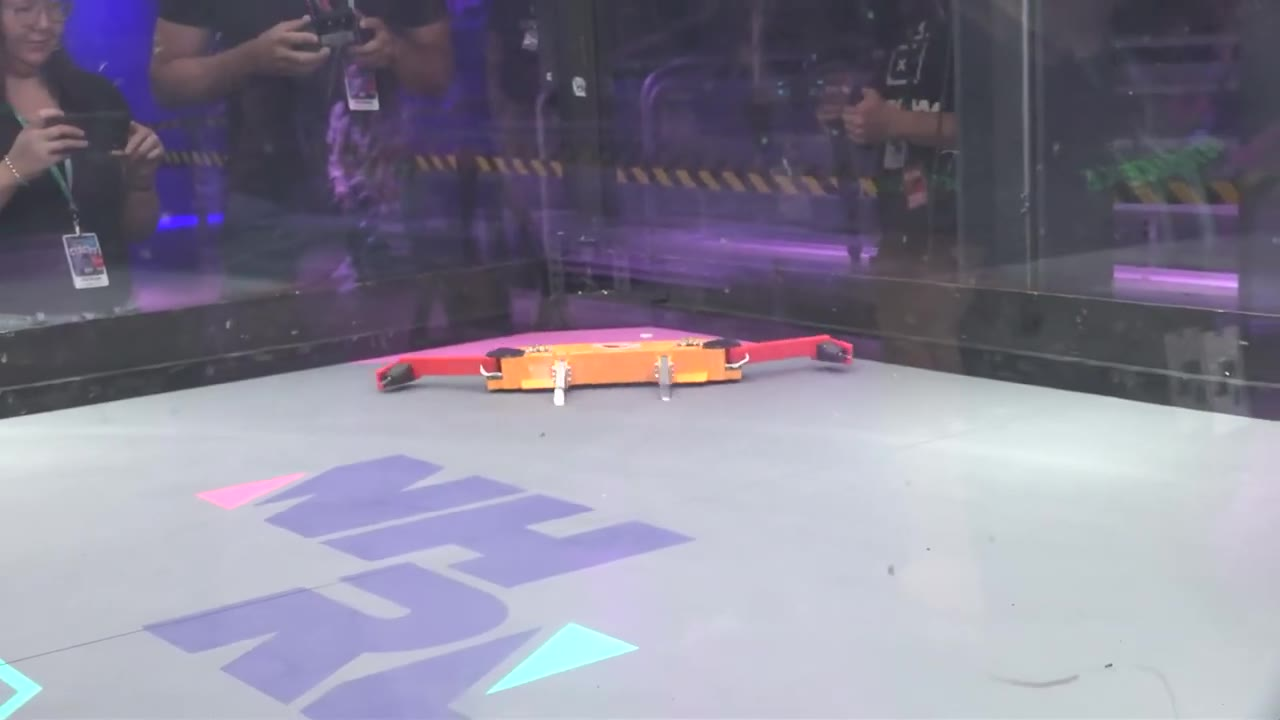combatbot: (484, 331, 749, 409)
